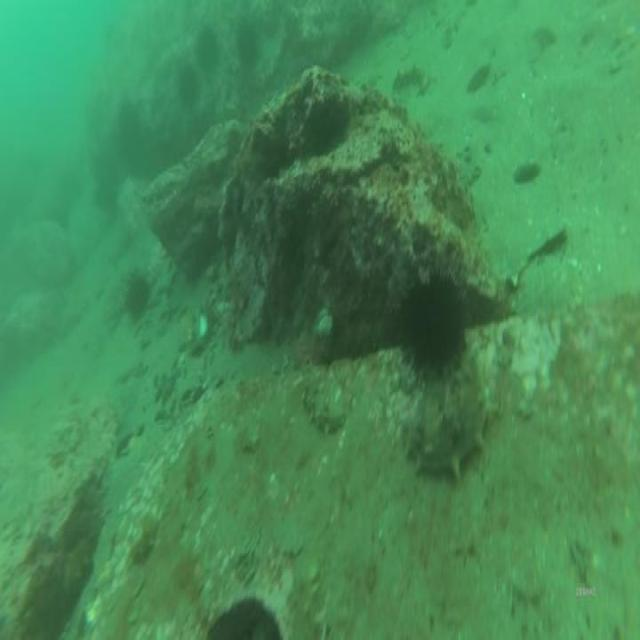echinus: (390, 247, 476, 384), (121, 264, 153, 325), (115, 95, 146, 152), (194, 22, 225, 74), (236, 17, 263, 71), (174, 58, 204, 106)
holothurian: (404, 356, 500, 492), (301, 380, 348, 440)
